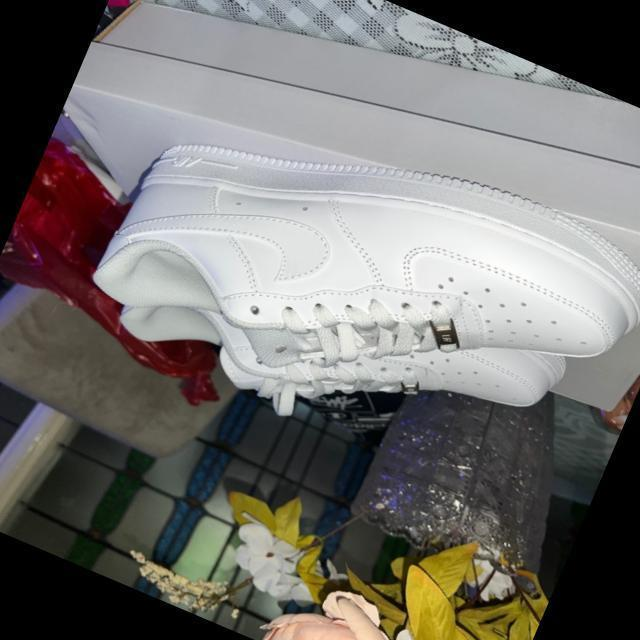nike original air force: (5, 13, 640, 505), (458, 569, 492, 594)
